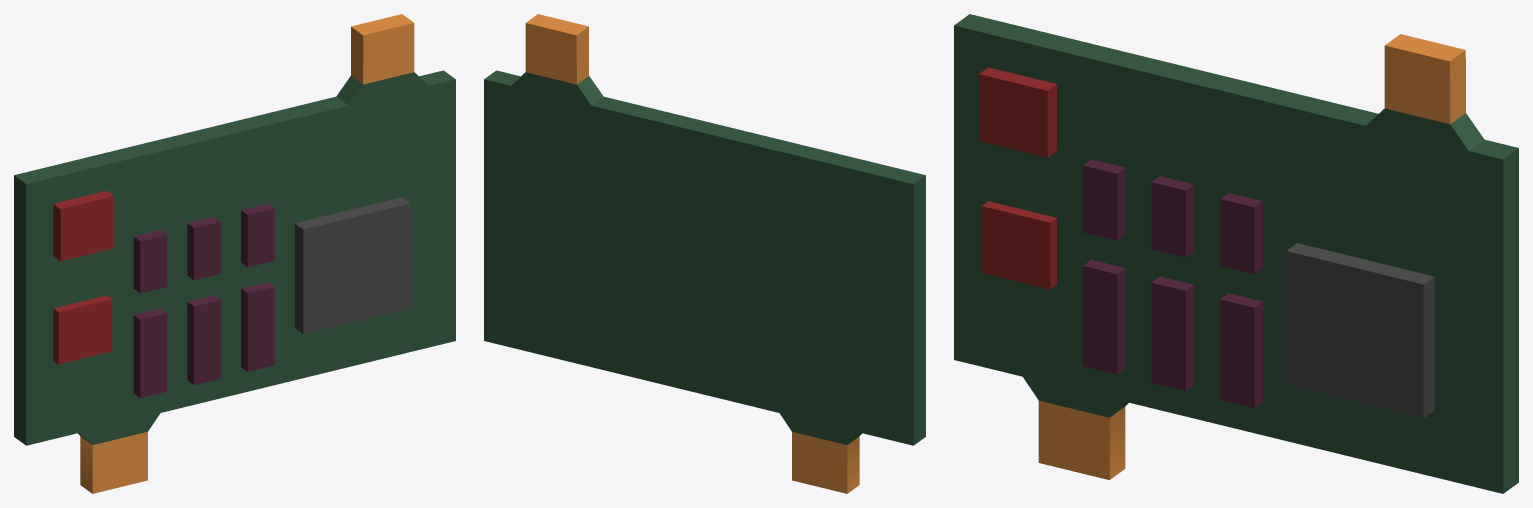
Rendered from board_0200sat.fbx.
3 views of the same model, side by side, from view 1: azimuth 30°, elevation 25°; view 2: azimuth 150°, elevation 25°; view 3: azimuth 330°, elevation 25° (orthographic). The views are drawn at different scales.
Parts seen in each view (by area): view 1: board; view 2: board; view 3: board.
Part boxes in pixels (x1=…): board: x1=14, y1=14, x2=455, y2=493; board: x1=484, y1=14, x2=925, y2=493; board: x1=954, y1=14, x2=1518, y2=493.
Size of the model in its own units: 7.32 by 6.4 by 0.6146.
